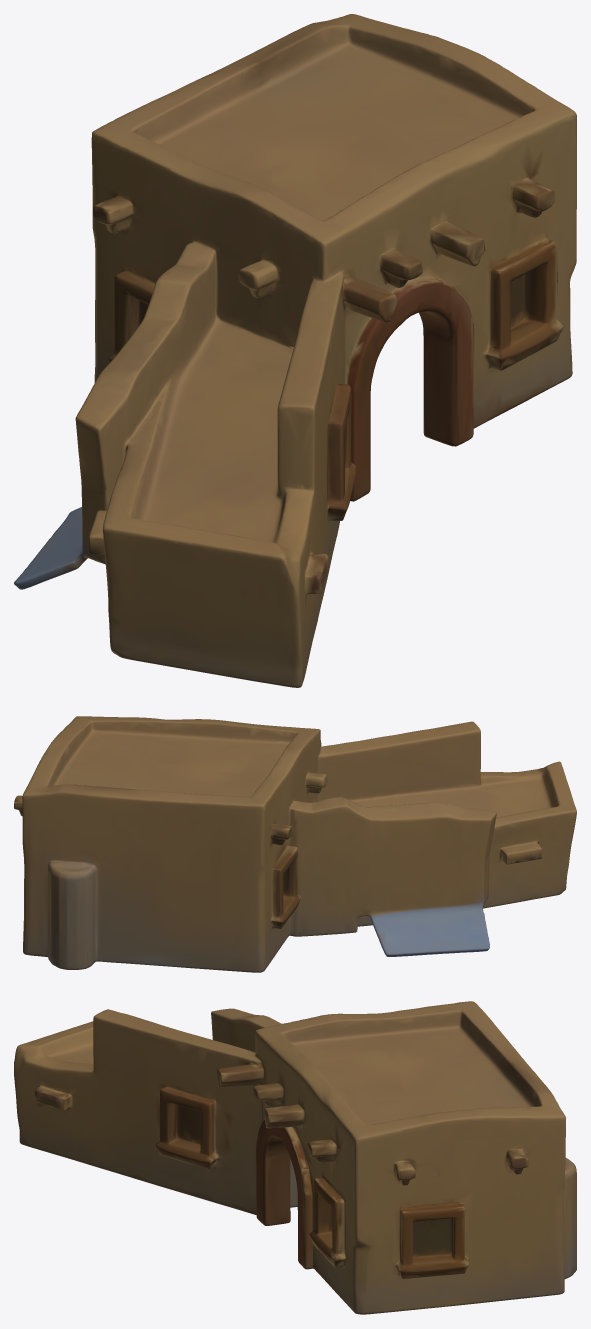
The model's file is building-3.fbx.
The picture shows the model from 3 angles, top to bottom: view 1: azimuth 30°, elevation 25°; view 2: azimuth 150°, elevation 25°; view 3: azimuth 270°, elevation 25°; orthographic projection. The views are drawn at different scales.
Parts seen in each view (by area): view 1: image_Stylized_architectural_model_of_a_building_Hunyuan_3D.; view 2: image_Stylized_architectural_model_of_a_building_Hunyuan_3D.; view 3: image_Stylized_architectural_model_of_a_building_Hunyuan_3D..
Boxes of the visible parts, x1,y1,x2,y2 form: image_Stylized_architectural_model_of_a_building_Hunyuan_3D.: (14,14,576,687); image_Stylized_architectural_model_of_a_building_Hunyuan_3D.: (14,716,576,972); image_Stylized_architectural_model_of_a_building_Hunyuan_3D.: (14,1001,576,1314).
Bounding box in the file's own units: 3140 × 1347 × 3444.
